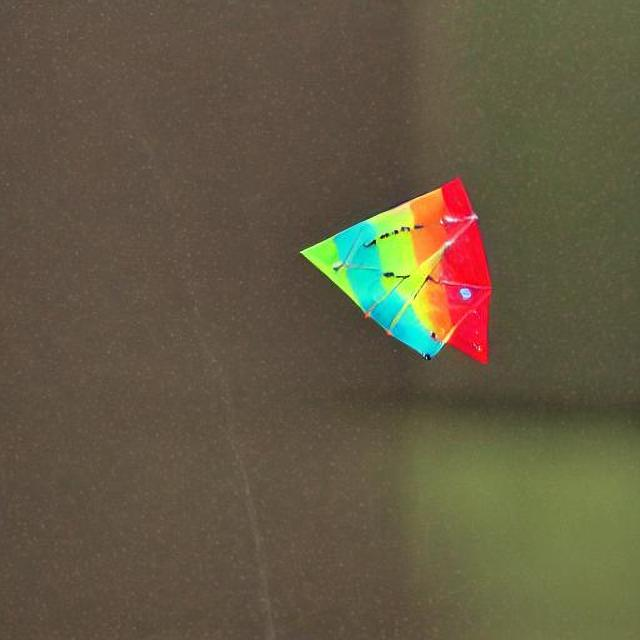floating object: (299, 181, 492, 361)
